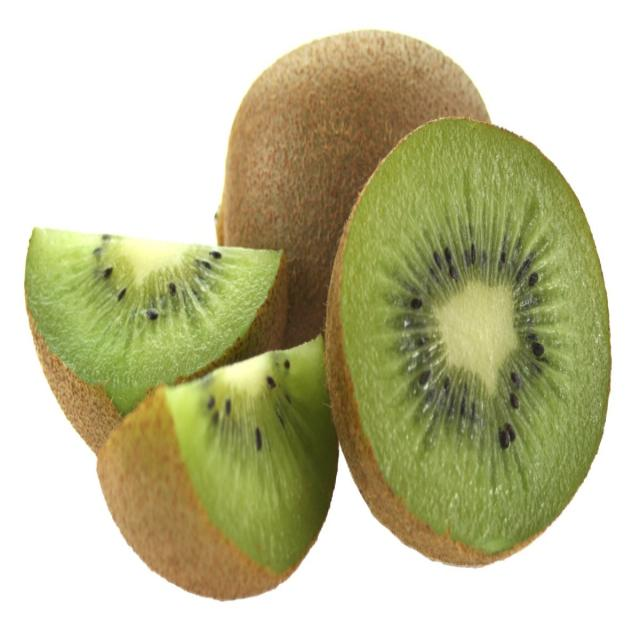kiwi: (331, 99, 625, 573), (193, 50, 511, 332), (100, 352, 376, 607), (17, 212, 300, 433)
